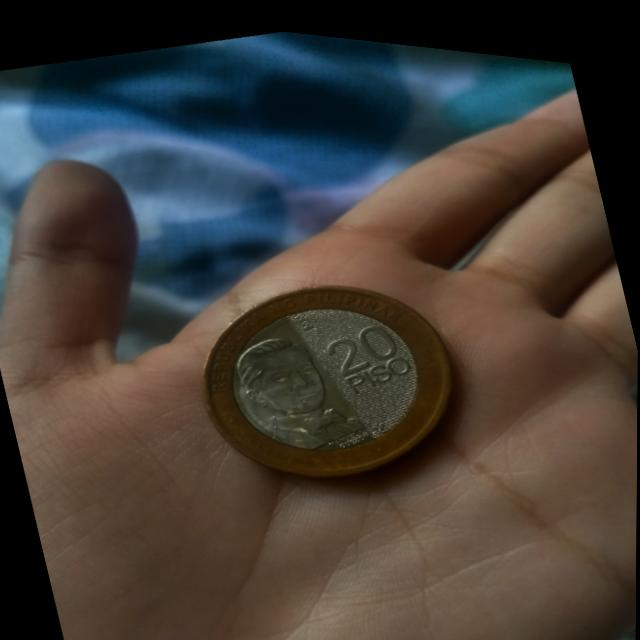20_New_Front: (318, 291, 429, 403)
